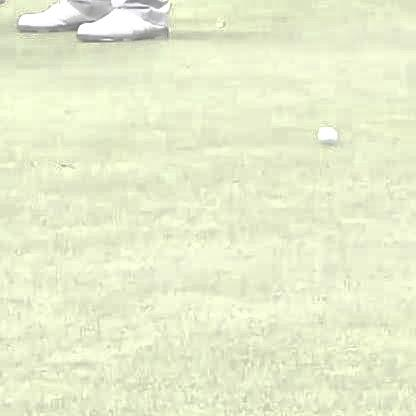golfball: (314, 123, 336, 143)
